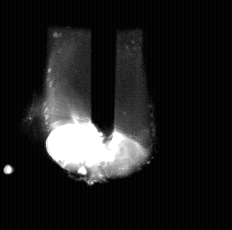arame: (92, 0, 116, 146)
poca: (46, 0, 151, 230)
